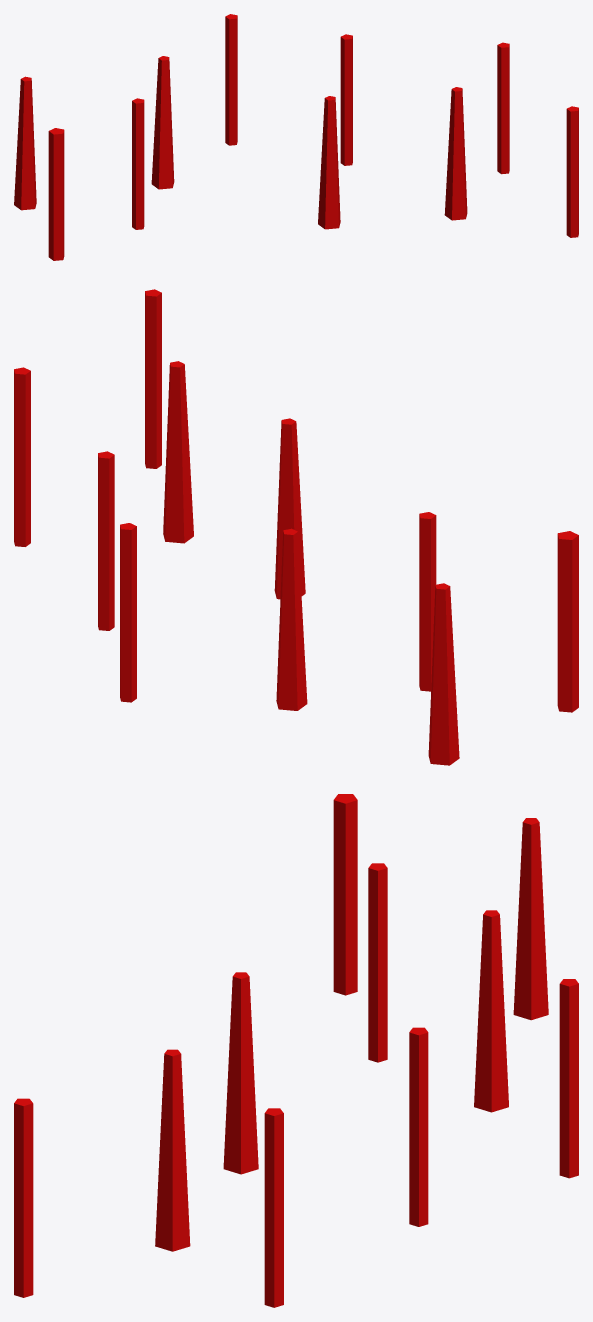
Rendered from SM_Env_Tree_Cluster_01_Collision.fbx.
3 views of the same model, one above another, from view 1: azimuth 30°, elevation 25°; view 2: azimuth 150°, elevation 25°; view 3: azimuth 270°, elevation 25° (orthographic). The views are drawn at different scales.
Visible parts, largest first — view 1: SM_Env_Tree_Cluster_01_Collision; view 2: SM_Env_Tree_Cluster_01_Collision; view 3: SM_Env_Tree_Cluster_01_Collision.
Boxes of the visible parts, x1,y1,x2,y2 form: SM_Env_Tree_Cluster_01_Collision: (14, 14, 578, 260); SM_Env_Tree_Cluster_01_Collision: (14, 289, 578, 765); SM_Env_Tree_Cluster_01_Collision: (14, 794, 578, 1307).
Bounding box in the file's own units: 1959 × 544 × 1452.
